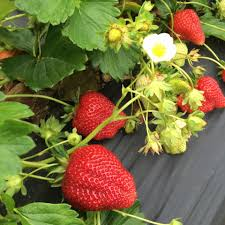ripe: (65, 141, 144, 217), (70, 89, 126, 140), (169, 7, 207, 51), (196, 70, 224, 113), (175, 90, 212, 120)
